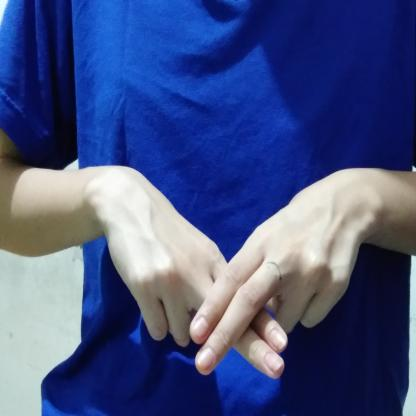father: (78, 157, 404, 386)
